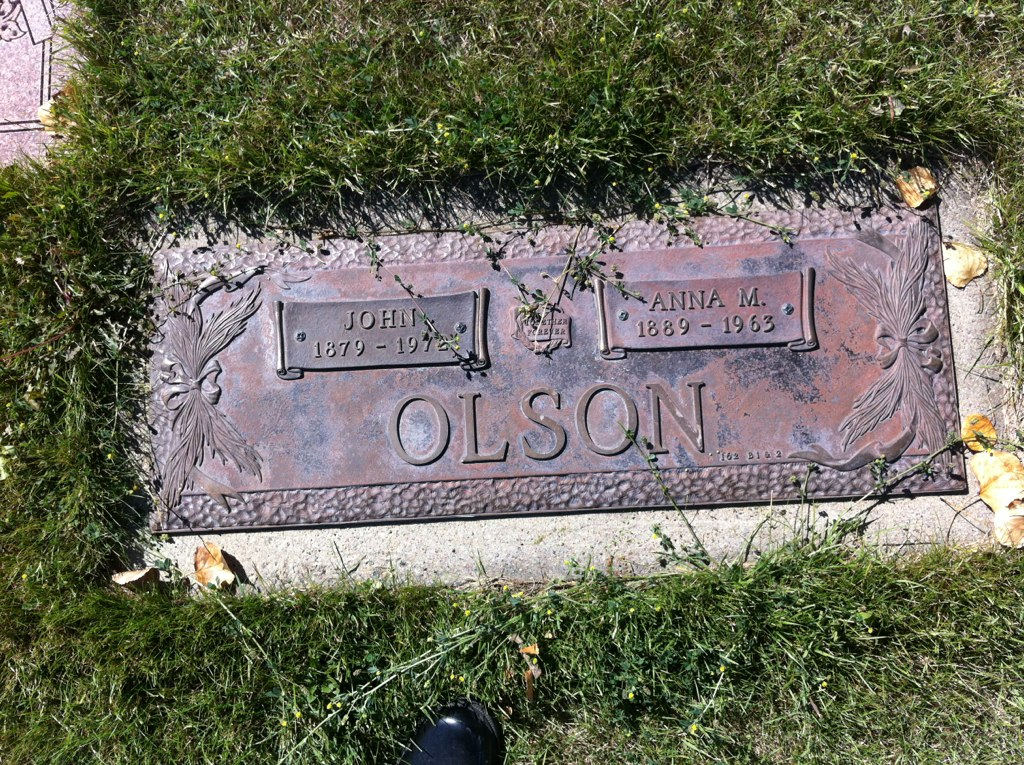flat: (126, 166, 1022, 591)
